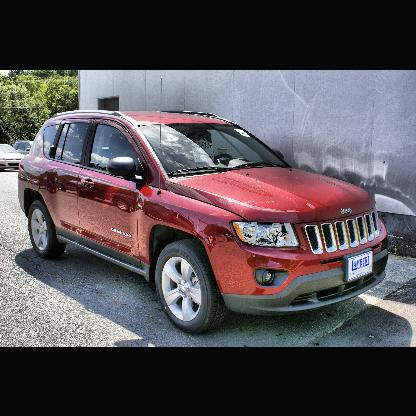Jeep Compass SUV 2012: (18, 109, 390, 335)
